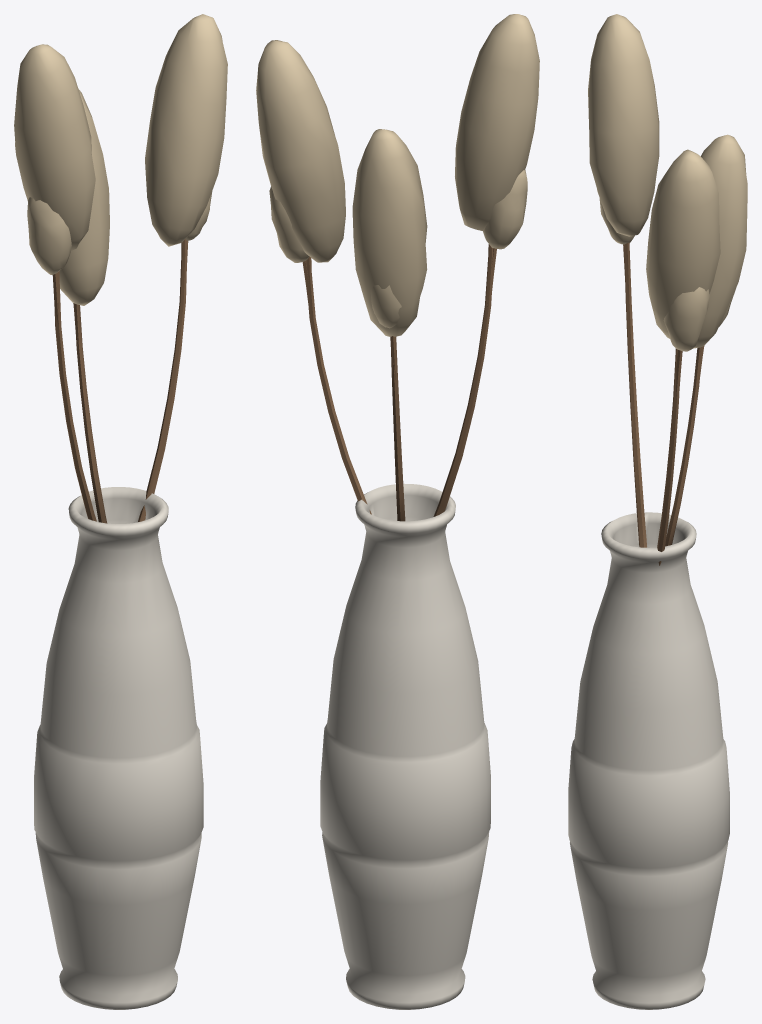
The model's file is vaseTall.glb.
The picture shows the model from 3 angles, left to right: view 1: azimuth 30°, elevation 25°; view 2: azimuth 150°, elevation 25°; view 3: azimuth 270°, elevation 25°; orthographic projection. The views are drawn at different scales.
Parts seen in each view (by area): view 1: vaseTall; view 2: vaseTall; view 3: vaseTall.
Part boxes in pixels (x1,y1,x2,y2): vaseTall: (14, 14, 227, 1009); vaseTall: (256, 14, 539, 1009); vaseTall: (568, 14, 747, 1009).
Size of the model in its own units: 0.3268 by 1.27 by 0.2222.
